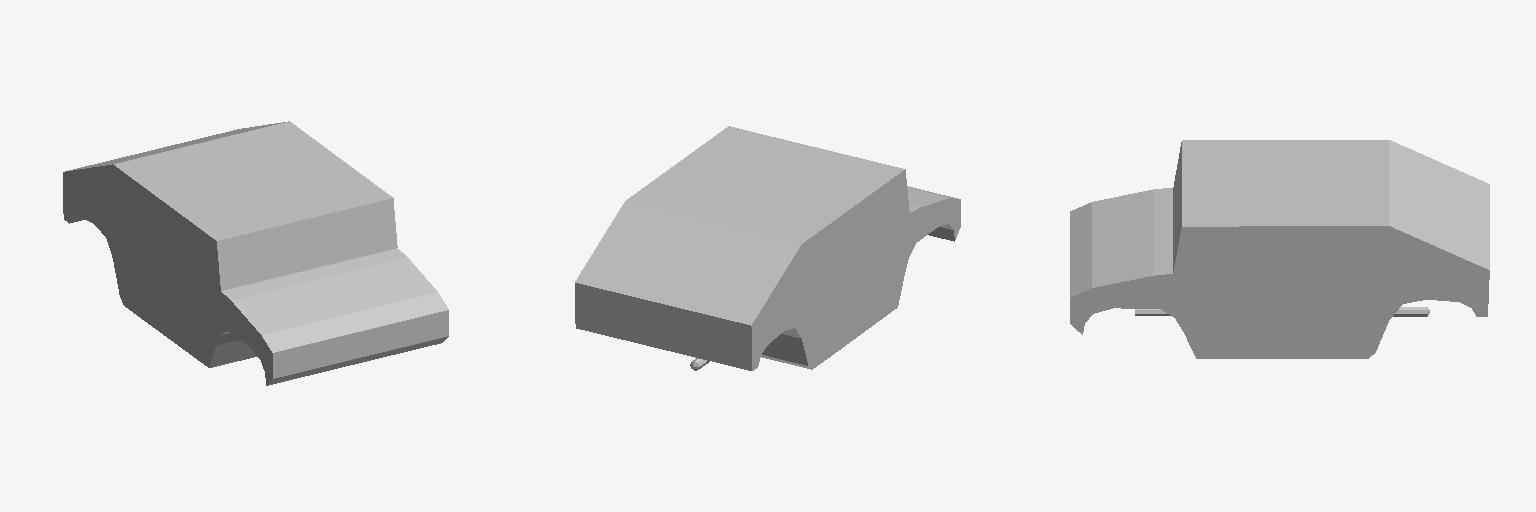
File: chassis.obj
The picture shows the model from 3 angles: view 1: azimuth 30°, elevation 25°; view 2: azimuth 150°, elevation 25°; view 3: azimuth 270°, elevation 25°; orthographic projection.
Size of the model in its own units: 2.29 by 1.81 by 4.7.